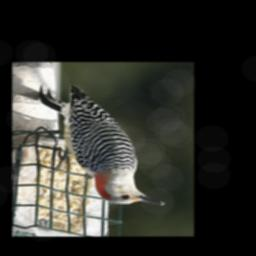Woodpecker: (39, 84, 165, 206)
